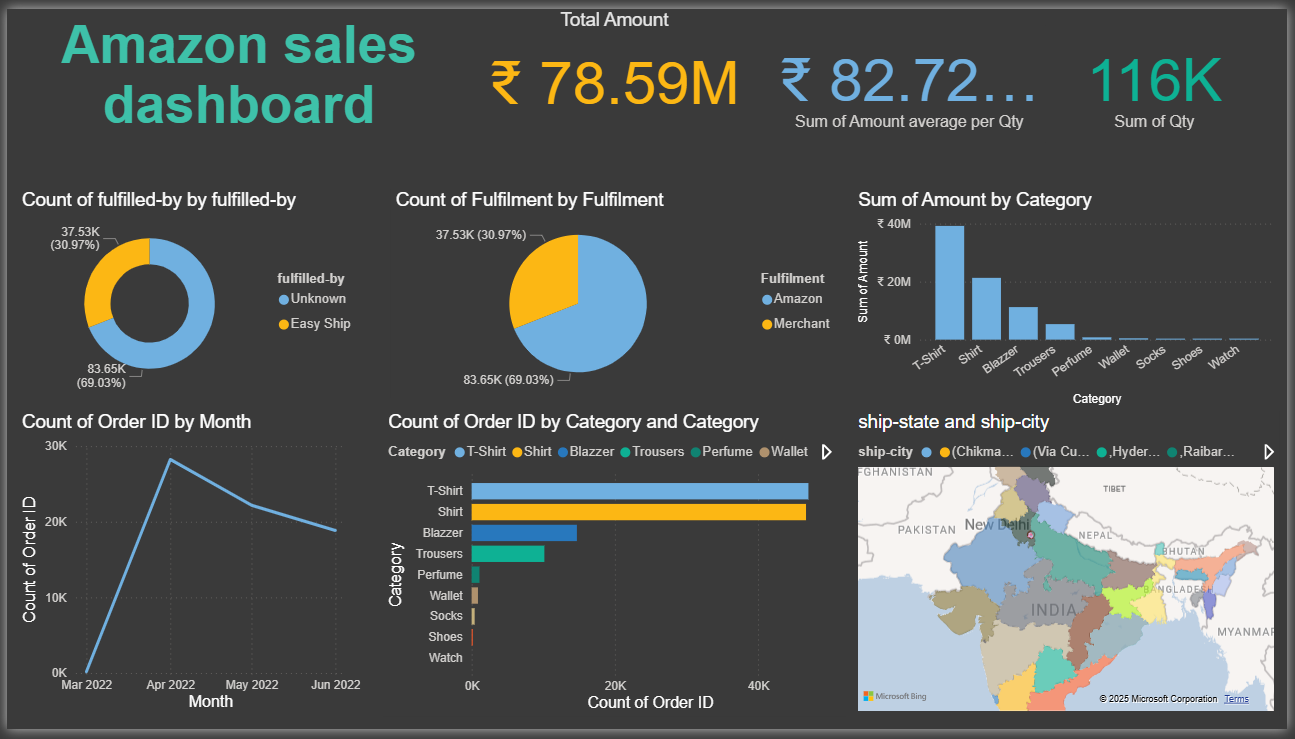

What the dashboard file says about the page in this screenshot:
{"tool":"powerbi","page":{"name":"Page 1","canvas":[1280,720],"ordinal":0},"visuals":[{"type":"card","title":"Total Amount","fields":{"Values":["Sum(Cleaned_Amazon_Sales_Report.Amount)","select"]},"box":[470,0,275,117.5],"z":0},{"type":"card","fields":{"Values":["Sum(Cleaned_Amazon_Sales_Report.Qty)"]},"box":[1038.8,16.2,217.5,117.5],"z":1000},{"type":"card","fields":{"Values":["Cleaned_Amazon_Sales_Report.TotalOrders"]},"box":[766.2,16.2,272.5,117.5],"z":2000},{"type":"lineChart","fields":{"Category":["Cleaned_Amazon_Sales_Report.Month"],"Y":["CountNonNull(Cleaned_Amazon_Sales_Report.Order ID)"]},"box":[10,402.9,348.6,304.3],"z":3000},{"type":"barChart","fields":{"Category":["Cleaned_Amazon_Sales_Report.Category"],"Y":["CountNonNull(Cleaned_Amazon_Sales_Report.Order ID)"],"Series":["Cleaned_Amazon_Sales_Report.Category"]},"box":[376.2,402.5,462.5,305],"z":4000},{"type":"clusteredColumnChart","fields":{"Y":["Sum(Cleaned_Amazon_Sales_Report.Amount)"],"Category":["Cleaned_Amazon_Sales_Report.Category"]},"box":[845.7,180,425.7,221.4],"z":5000},{"type":"barChart","fields":{"Category":["Cleaned_Amazon_Sales_Report.ship-city"],"Y":["Sum(Cleaned_Amazon_Sales_Report.Qty)"]},"box":[10,180,407.5,208.8],"z":6000},{"type":"donutChart","fields":{"Category":["Cleaned_Amazon_Sales_Report.Fulfilment"],"Y":["CountNonNull(Cleaned_Amazon_Sales_Report.Fulfilment)"]},"box":[376.2,180,462.5,208.8],"z":7000},{"type":"filledMap","fields":{"Category":["Cleaned_Amazon_Sales_Report.ship-state","Cleaned_Amazon_Sales_Report.ship-city","Cleaned_Amazon_Sales_Report.Qty"]},"box":[845.7,402.9,425.7,304.3],"z":8000},{"type":"textbox","box":[10,0,444.3,150],"z":9000}]}

Visuals, with their boxes in screenshot pixels (x1, y1, x2, y2), scaled from the page's 1280x720 canvas onto the 1295x739 screenshot:
"Total Amount" card: bbox=(476, 0, 754, 121)
card - Sum(Cleaned_Amazon_Sales_Report.Qty): bbox=(1051, 17, 1271, 137)
card - Cleaned_Amazon_Sales_Report.TotalOrders: bbox=(775, 17, 1051, 137)
lineChart - Cleaned_Amazon_Sales_Report.Month x CountNonNull(Cleaned_Amazon_Sales_Report.Order ID): bbox=(10, 414, 363, 726)
barChart - Cleaned_Amazon_Sales_Report.Category x CountNonNull(Cleaned_Amazon_Sales_Report.Order ID): bbox=(381, 413, 849, 726)
clusteredColumnChart - Sum(Cleaned_Amazon_Sales_Report.Amount) x Cleaned_Amazon_Sales_Report.Category: bbox=(856, 185, 1286, 412)
barChart - Cleaned_Amazon_Sales_Report.ship-city x Sum(Cleaned_Amazon_Sales_Report.Qty): bbox=(10, 185, 422, 399)
donutChart - Cleaned_Amazon_Sales_Report.Fulfilment x CountNonNull(Cleaned_Amazon_Sales_Report.Fulfilment): bbox=(381, 185, 849, 399)
filledMap - Cleaned_Amazon_Sales_Report.ship-state x Cleaned_Amazon_Sales_Report.ship-city: bbox=(856, 414, 1286, 726)
textbox: bbox=(10, 0, 460, 154)
